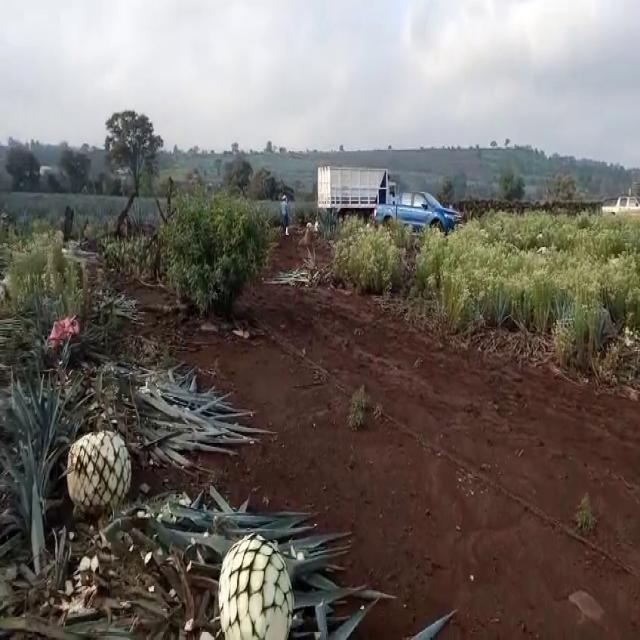agave: (214, 528, 299, 640), (61, 427, 129, 507)
